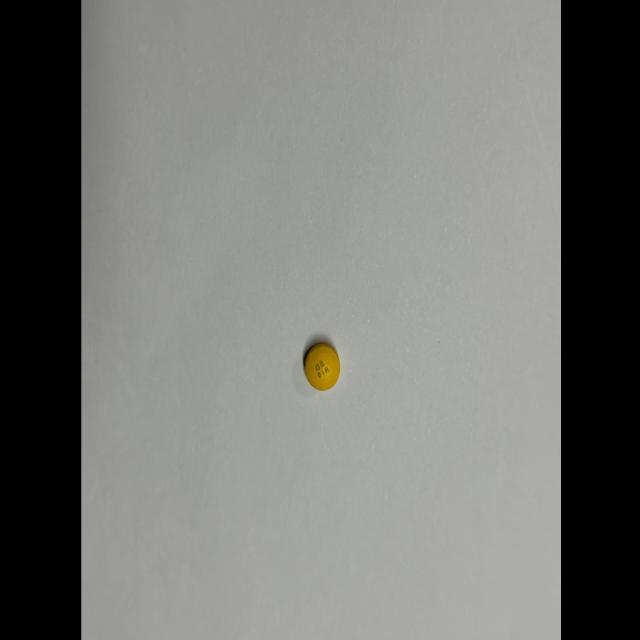Piller: (304, 343, 339, 390)
